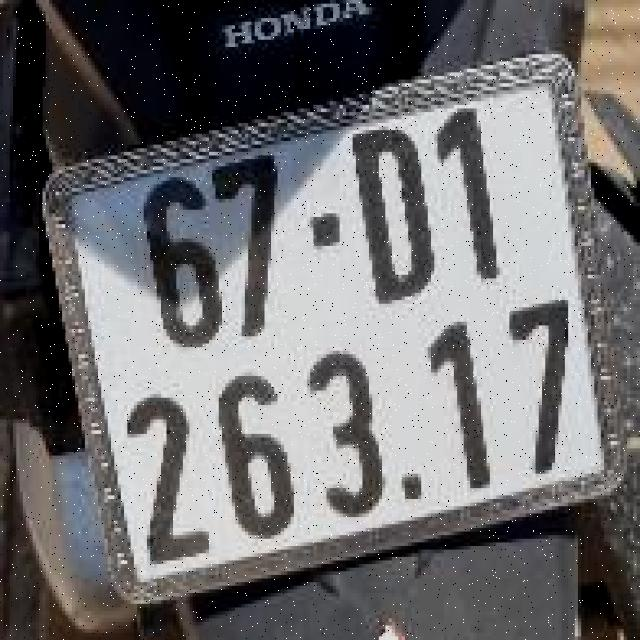1: (425, 98, 518, 293), (418, 314, 500, 496)
2: (113, 388, 217, 570)
3: (304, 345, 388, 526)
6: (136, 166, 234, 363), (205, 363, 309, 548)
7: (206, 143, 294, 345), (500, 296, 584, 484)
D: (343, 114, 452, 313)
